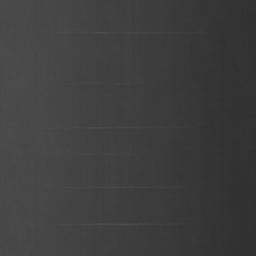Waist folding: (90, 30, 180, 36), (62, 222, 151, 227), (88, 125, 164, 130), (103, 185, 159, 190)
